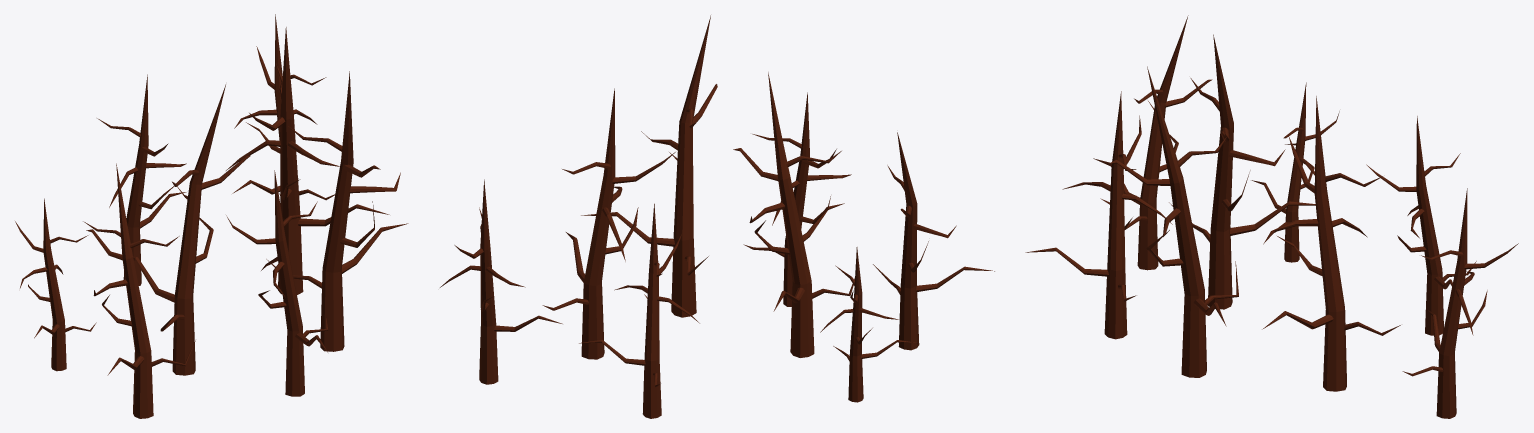
Rendered from trees_1.glb.
3 views of the same model, side by side, from view 1: azimuth 30°, elevation 25°; view 2: azimuth 150°, elevation 25°; view 3: azimuth 270°, elevation 25° (orthographic). The views are drawn at different scales.
Parts seen in each view (by area): view 1: trees; view 2: trees; view 3: trees.
Part boxes in pixels (left/top/right/bottom): trees: left=15, top=14, right=408, bottom=418; trees: left=440, top=15, right=994, bottom=418; trees: left=1025, top=15, right=1518, bottom=418.
Bounding box in the file's own units: 6.4 × 4.58 × 6.74.
